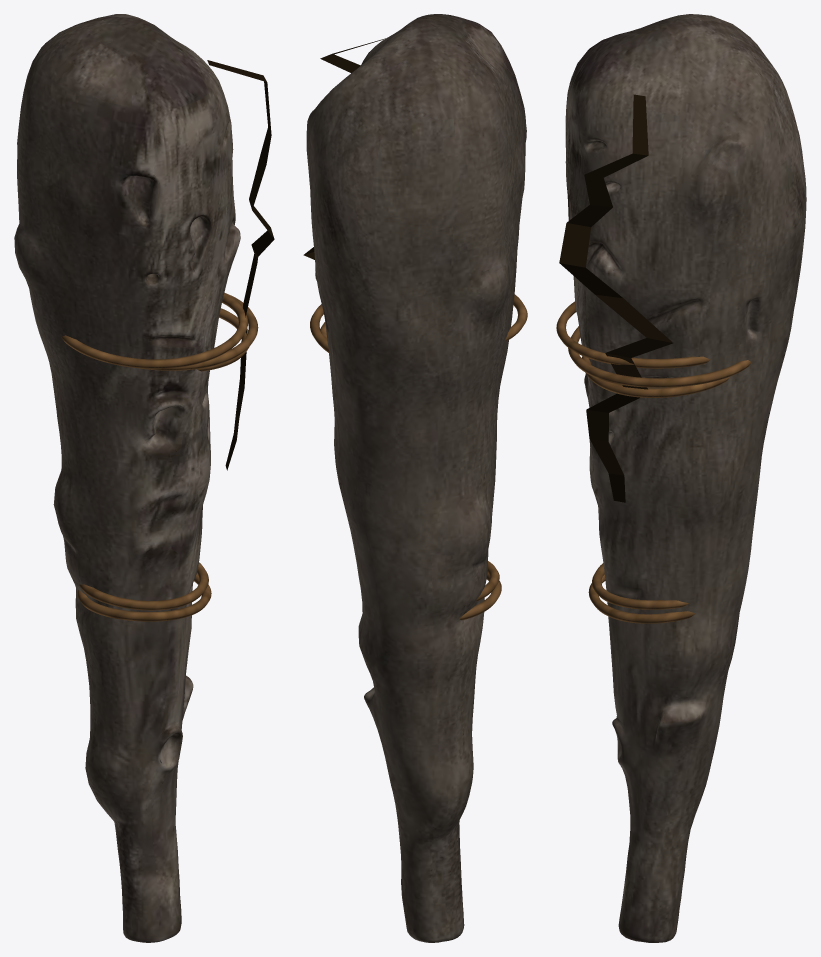
The model's file is cracked_club.glb.
3 views of the same model, side by side, from view 1: azimuth 30°, elevation 25°; view 2: azimuth 150°, elevation 25°; view 3: azimuth 270°, elevation 25° (orthographic).
Parts seen in each view (by area): view 1: club, cracked_club_bits, crack; view 2: club, cracked_club_bits, crack; view 3: club, crack, cracked_club_bits.
Boxes of the visible parts, x1,y1,x2,y2 form: club: (14, 14, 240, 942); cracked_club_bits: (60, 292, 258, 621); crack: (207, 60, 274, 470); club: (306, 14, 526, 942); cracked_club_bits: (310, 294, 527, 620); crack: (303, 38, 385, 259); club: (565, 14, 806, 942); crack: (559, 94, 673, 502); cracked_club_bits: (556, 301, 751, 623).
Size of the model in its own units: 0.2352 by 0.9401 by 0.2344.
Materials: 2 (1 with a texture image).
